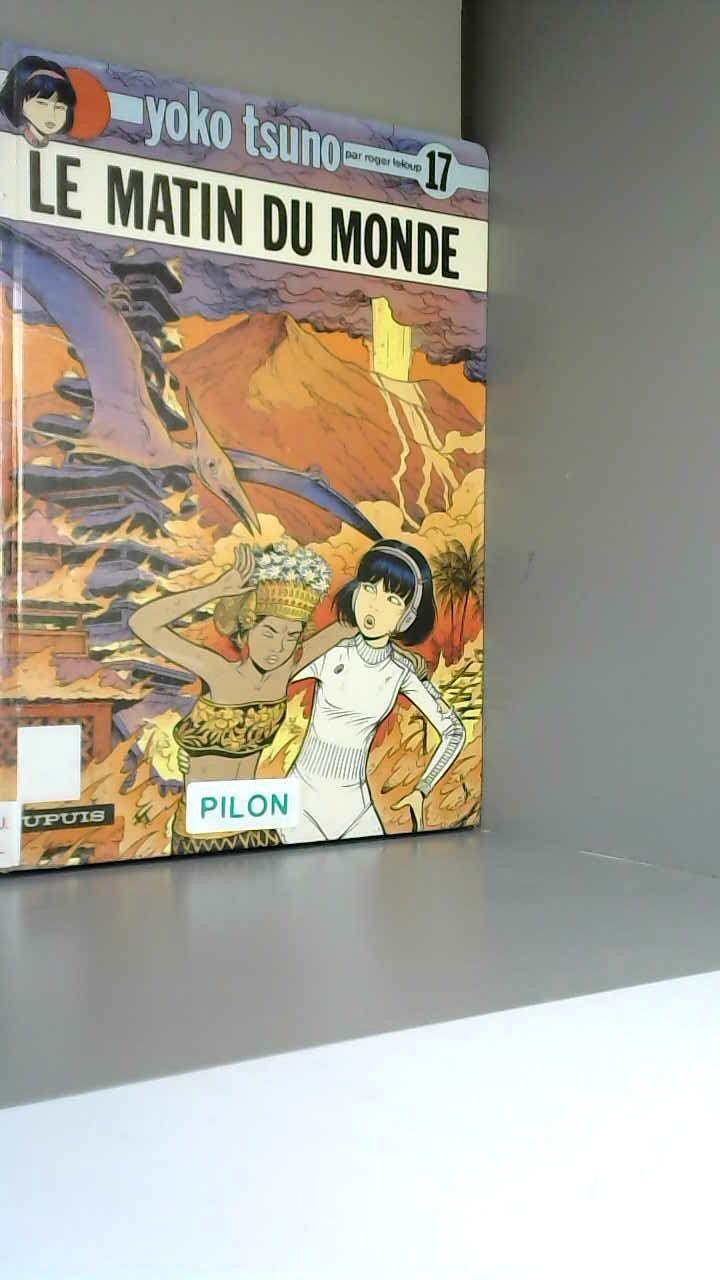book: (0, 14, 525, 897)
